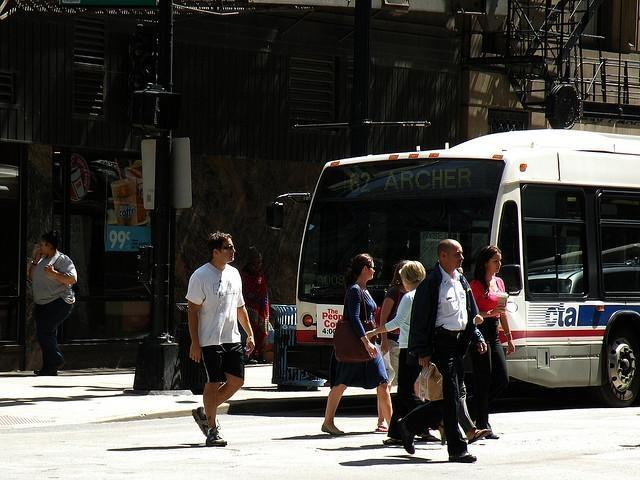bus: (294, 125, 638, 410)
